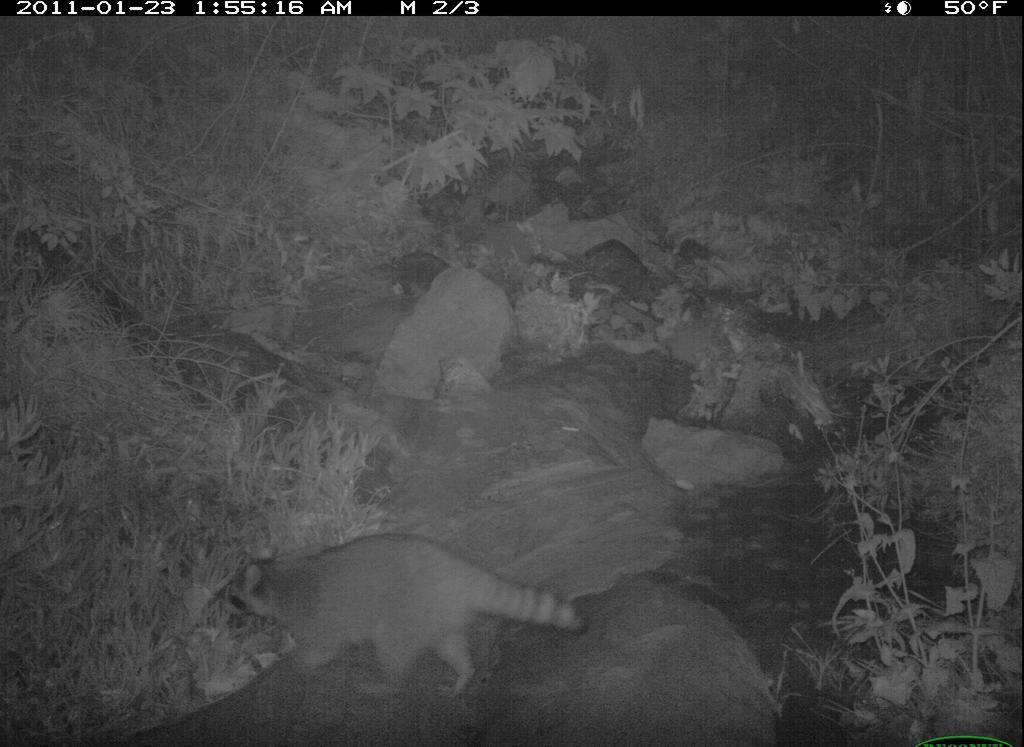raccoon: (228, 518, 591, 717)
